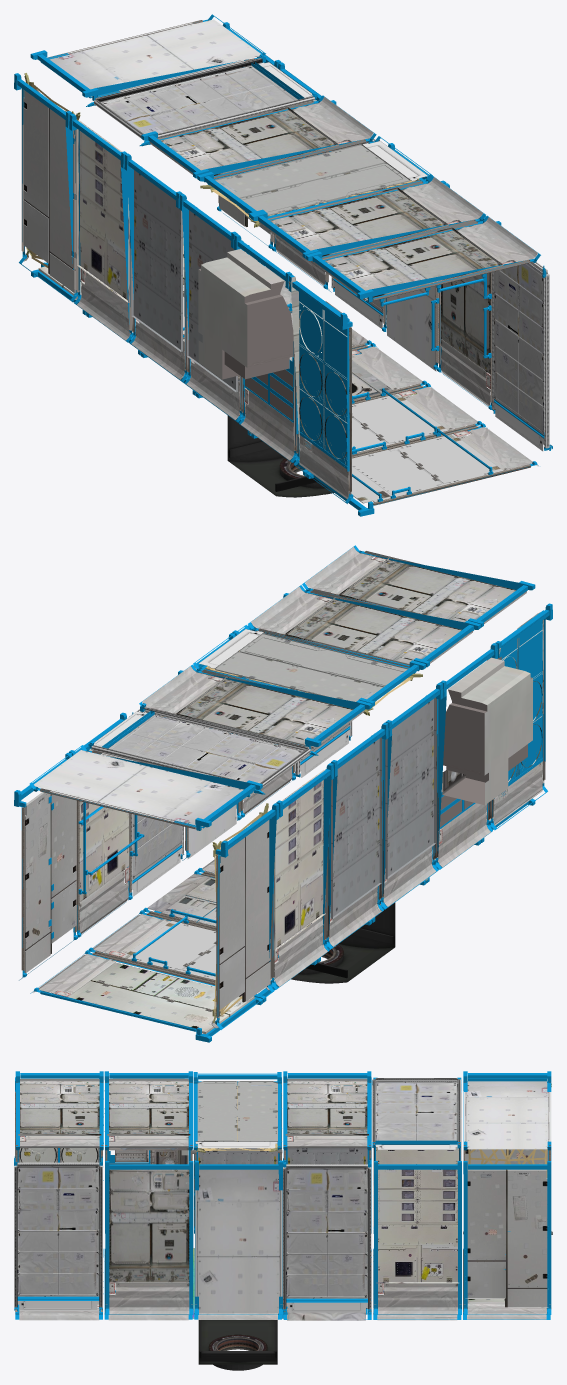
Rendered from US_Lab_Racks.C.dae.
3 renders of one model, top to bottom at view 1: azimuth 30°, elevation 25°; view 2: azimuth 150°, elevation 25°; view 3: azimuth 270°, elevation 25°, orthographic. The views are drawn at different scales.
Visible parts, largest first — view 1: node; view 2: node; view 3: node.
Boxes of the visible parts, x1,y1,x2,y2 form: node: [14, 14, 552, 516]; node: [14, 545, 552, 1042]; node: [14, 1071, 552, 1370].
Bounding box in the file's own units: 2.82 × 3.29 × 6.42.
